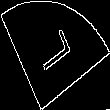L_SW: (33, 28, 77, 82)
